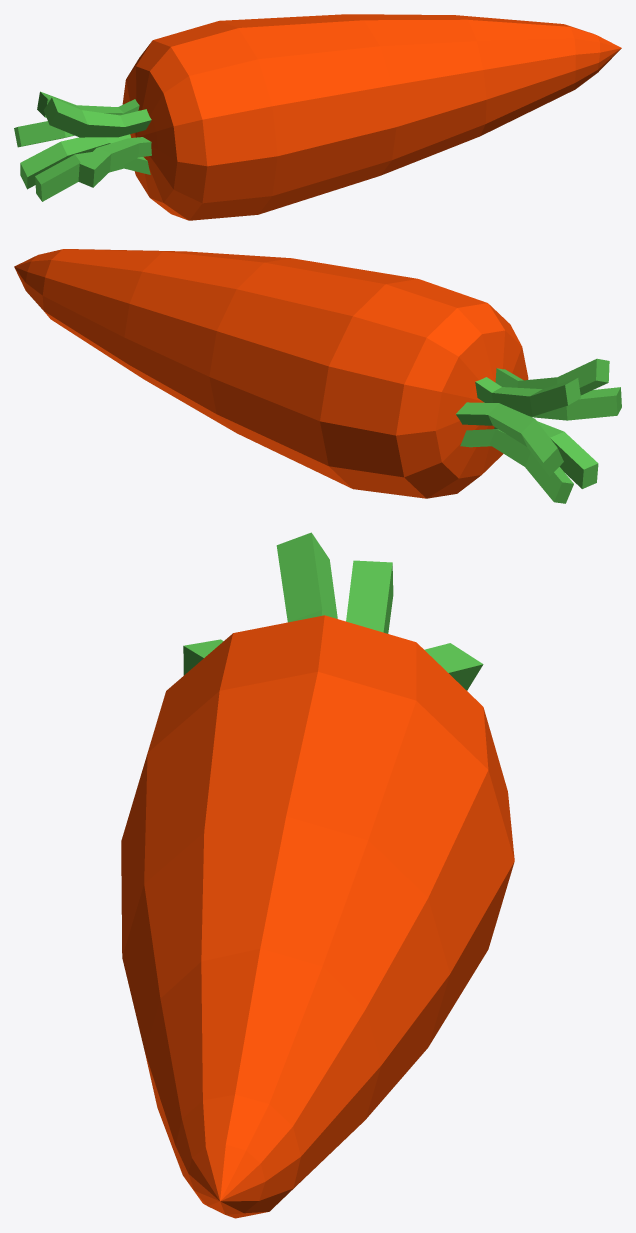
The model's file is carrot.fbx.
3 renders of one model, top to bottom at view 1: azimuth 30°, elevation 25°; view 2: azimuth 150°, elevation 25°; view 3: azimuth 270°, elevation 25°, orthographic. The views are drawn at different scales.
Parts seen in each view (by area): view 1: Sphere.015; view 2: Sphere.015; view 3: Sphere.015.
Boxes of the visible parts, x1=… form: Sphere.015: x1=14, y1=14, x2=621, y2=220; Sphere.015: x1=14, y1=249, x2=621, y2=503; Sphere.015: x1=121, y1=532, x2=514, y2=1218.
Size of the model in its own units: 286 by 88.77 by 88.16.
